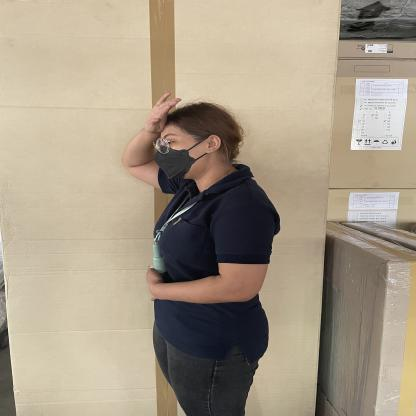Sick: (107, 80, 212, 187)
